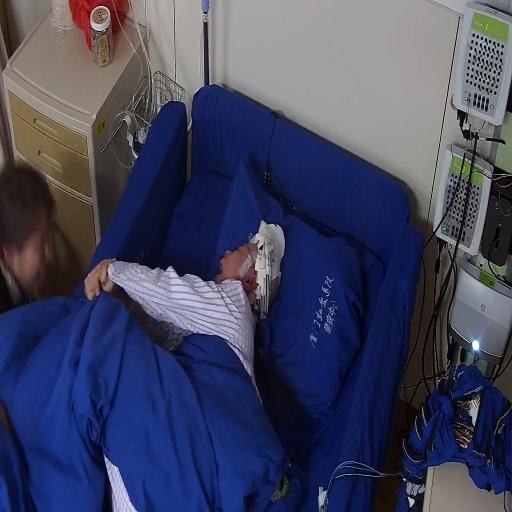Seizure: (205, 214, 281, 308)
